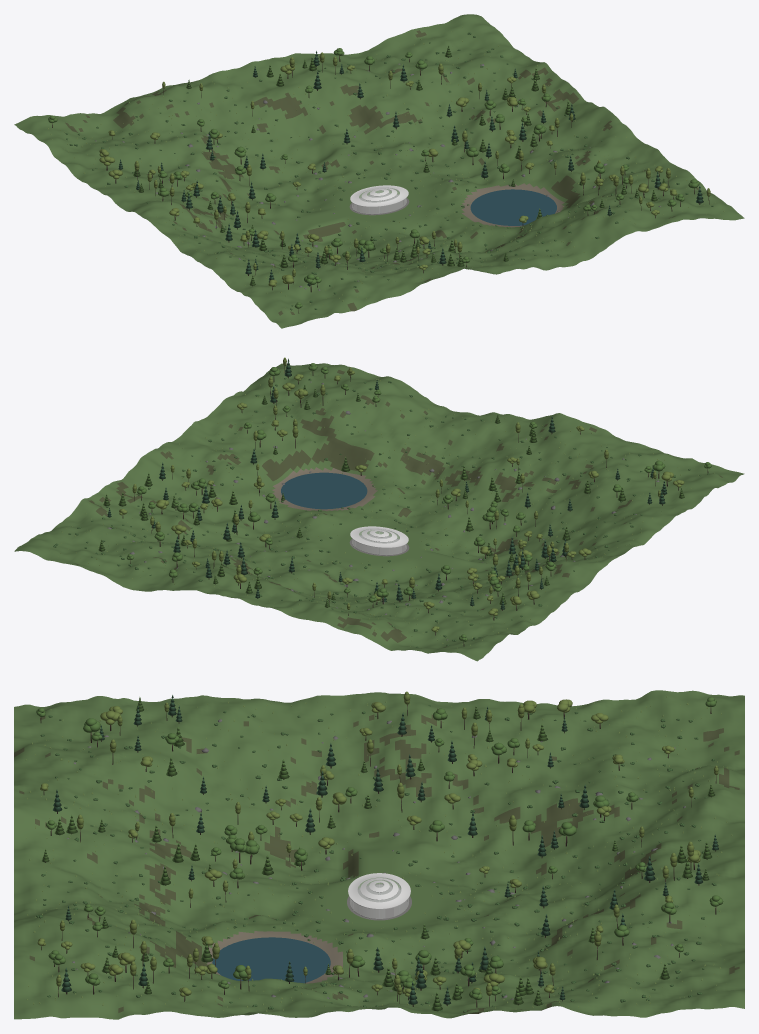
File: XRMeetingWorld.fbx
3 renders of one model, top to bottom at view 1: azimuth 30°, elevation 25°; view 2: azimuth 150°, elevation 25°; view 3: azimuth 270°, elevation 25°, orthographic. The views are drawn at different scales.
Parts seen in each view (by area): view 1: Nature_Terrain, Nature_Water, Pavilion_Roof, Pavilion_Floor; view 2: Nature_Terrain, Nature_Water, Pavilion_Roof, Pavilion_Floor; view 3: Nature_Terrain, Nature_Water, Pavilion_Roof, Pavilion_Floor.
Part boxes in pixels (x1,y1,x2,y2): Nature_Terrain: (14,14,744,328); Nature_Water: (470,189,556,225); Pavilion_Roof: (350,185,408,206); Pavilion_Floor: (352,194,406,214); Nature_Terrain: (14,363,744,661); Nature_Water: (281,472,367,509); Pavilion_Roof: (350,526,408,547); Pavilion_Floor: (352,535,406,555); Nature_Terrain: (14,690,744,1019); Nature_Water: (212,937,330,983); Pavilion_Roof: (348,873,410,909); Pavilion_Floor: (349,885,409,919).
Bounding box in the file's own units: 420 × 64.05 × 420.
